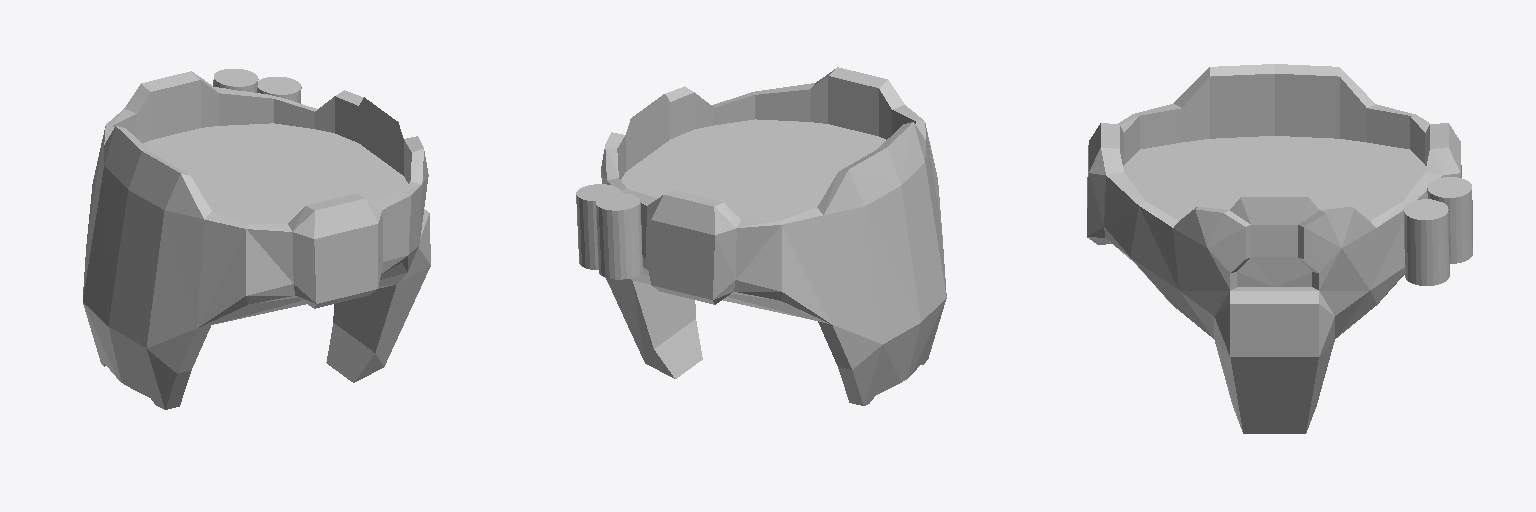
File: pelvis.obj
3 renders of one model, left to right at view 1: azimuth 30°, elevation 25°; view 2: azimuth 150°, elevation 25°; view 3: azimuth 270°, elevation 25°, orthographic.
Parts seen in each view (by area): view 1: pelvis_Mesh.002; view 2: pelvis_Mesh.002; view 3: pelvis_Mesh.002.
Part boxes in pixels (x1,y1,x2,y2): pelvis_Mesh.002: (83, 69, 430, 409); pelvis_Mesh.002: (576, 67, 946, 405); pelvis_Mesh.002: (1087, 64, 1472, 433).
Size of the model in its own units: 0.3238 by 0.2785 by 0.361.